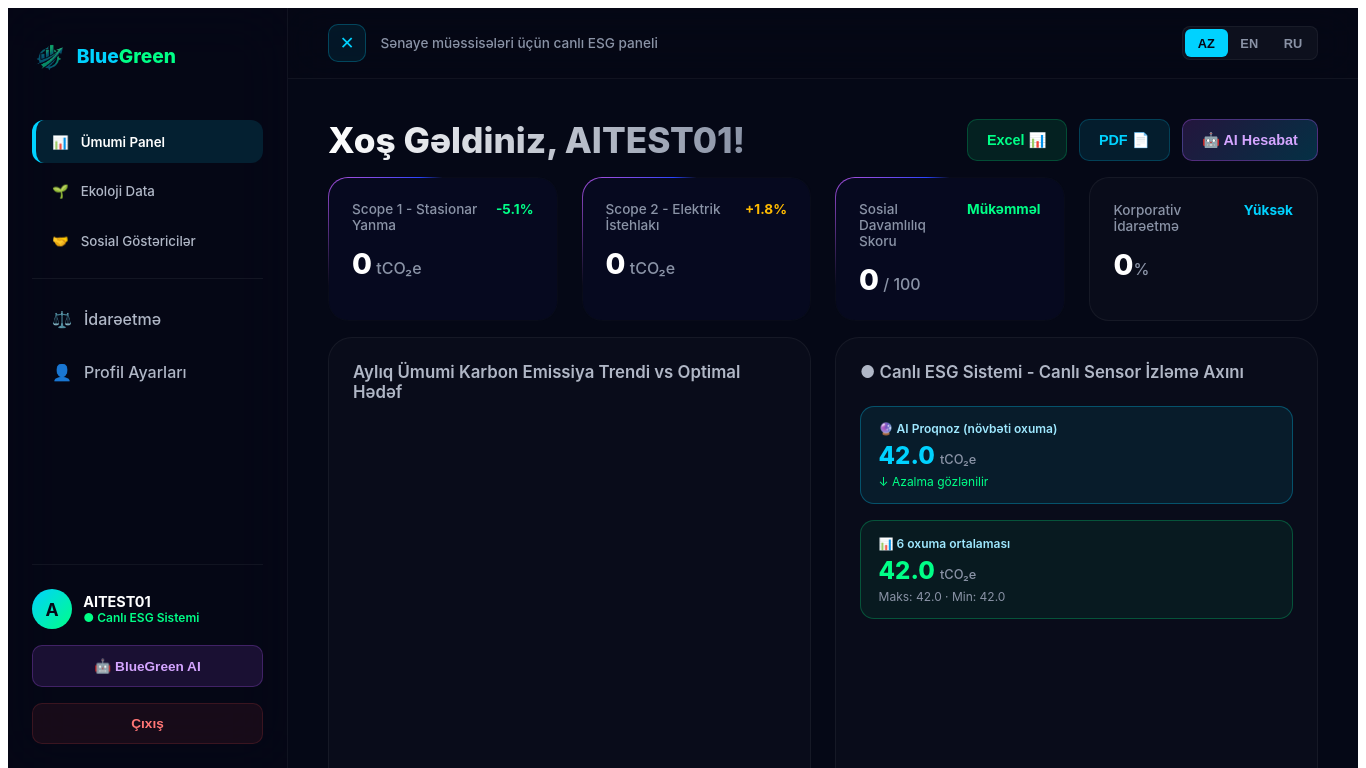
Test: Dashboard AI chat › opens with a robot button and hides the chat scrollbar
Click the button "🤖 BlueGreen AI" at (148, 666), box [32, 645, 263, 687]
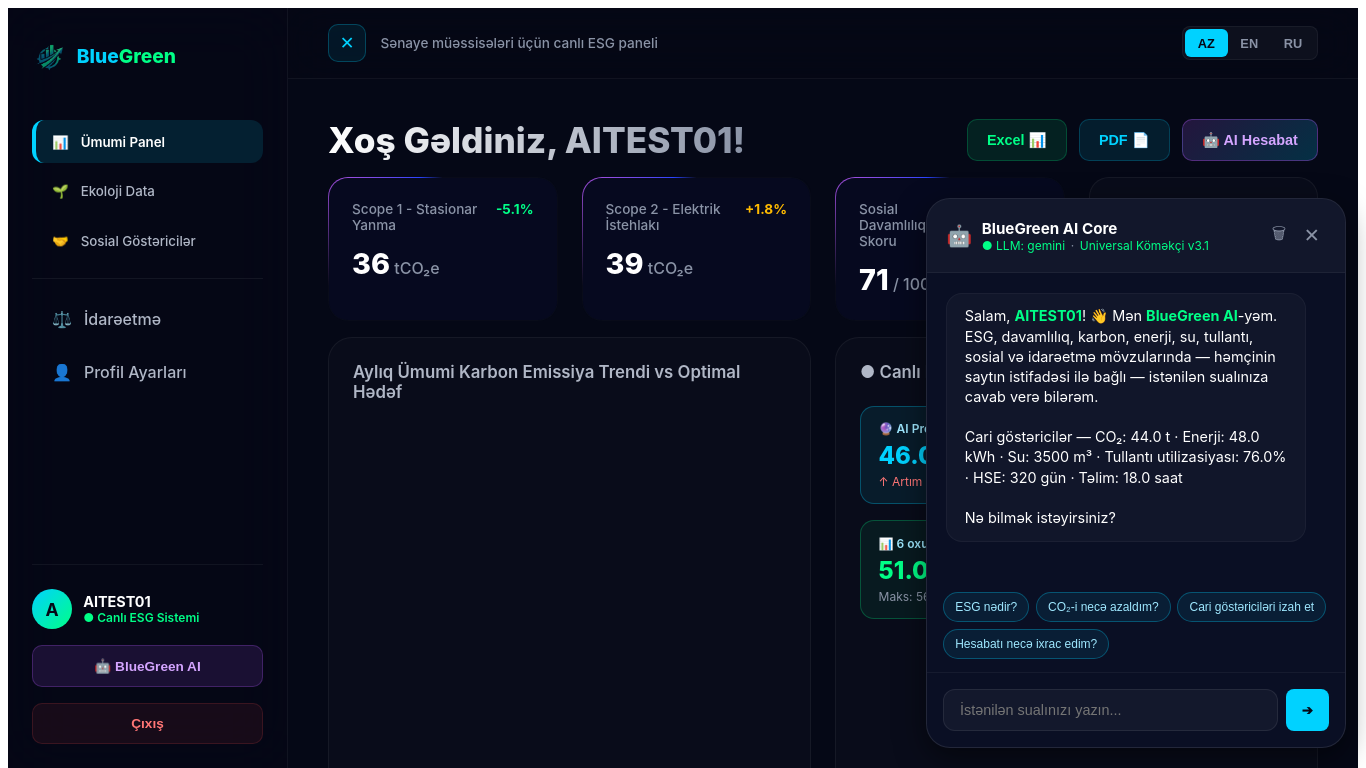
Result: the element with class "ai-chat-messages" is shown at [927, 273, 1345, 592]
Result: the text "BlueGreen AI Core" is shown at [982, 219, 1117, 238]
